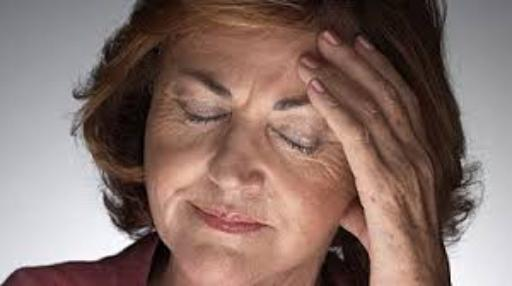left_eye: (264, 119, 325, 161)
left_lip_corner: (259, 219, 283, 235)
right_eye: (175, 96, 235, 129)
right_lip_corner: (182, 193, 202, 215)
